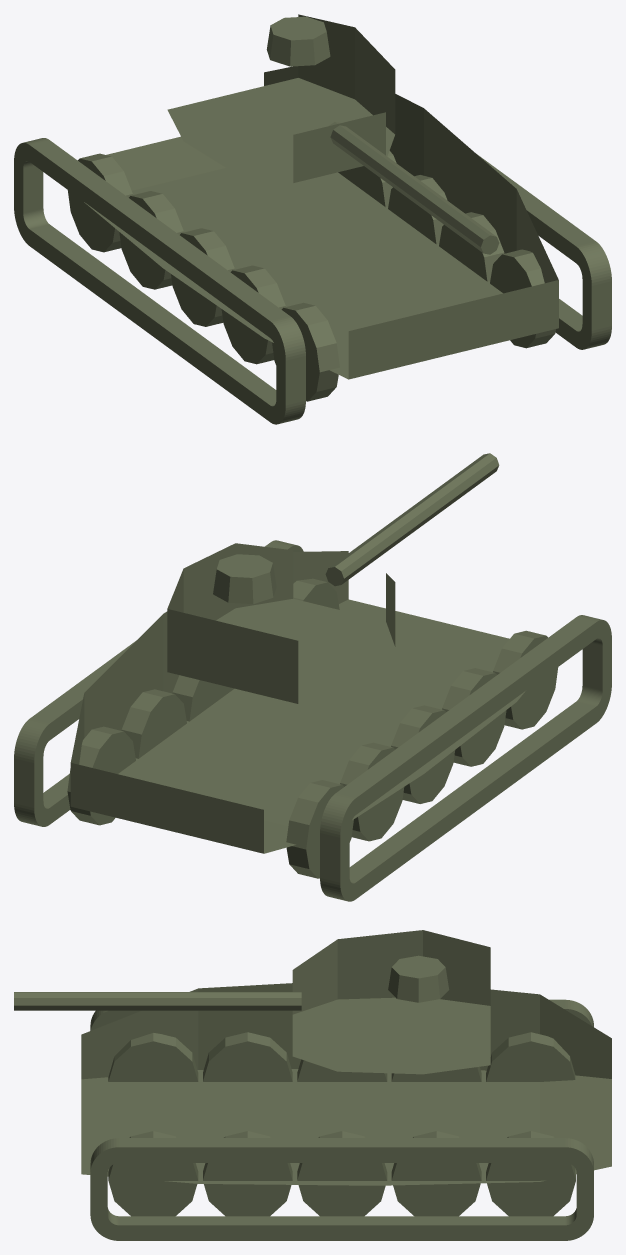
Rendered from tank.glb.
The picture shows the model from 3 angles, top to bottom: view 1: azimuth 30°, elevation 25°; view 2: azimuth 150°, elevation 25°; view 3: azimuth 270°, elevation 25°; orthographic projection. The views are drawn at different scales.
Parts seen in each view (by area): view 1: hull, track--1, turret, track-1, gun, road-wheel--1-4, road-wheel--1-0, cupola, road-wheel--1-3, road-wheel--1-1, road-wheel--1-2, road-wheel-1-4 (+3 smaller); view 2: hull, track--1, turret, track-1, gun, road-wheel--1-0, road-wheel-1-1, road-wheel--1-4, cupola, road-wheel-1-0, road-wheel--1-1, road-wheel--1-3 (+3 smaller); view 3: hull, track-1, turret, gun, road-wheel-1-4, road-wheel-1-0, road-wheel-1-1, road-wheel-1-3, road-wheel-1-2, road-wheel--1-3, road-wheel--1-0, road-wheel--1-4 (+4 smaller).
Part boxes in pixels (left/top/right/bottom): hull: left=84, top=66, right=558, bottom=379; track--1: left=14, top=138, right=305, bottom=424; turret: left=167, top=14, right=395, bottom=182; track-1: left=477, top=154, right=611, bottom=349; gun: left=328, top=122, right=499, bottom=254; road-wheel--1-4: left=272, top=302, right=339, bottom=401; road-wheel--1-0: left=67, top=153, right=132, bottom=252; cupola: left=266, top=16, right=330, bottom=66; road-wheel--1-3: left=221, top=265, right=285, bottom=364; road-wheel--1-1: left=119, top=191, right=183, bottom=289; road-wheel--1-2: left=171, top=228, right=234, bottom=326; road-wheel-1-4: left=490, top=249, right=555, bottom=348; hull: left=70, top=551, right=525, bottom=853; track--1: left=320, top=615, right=611, bottom=901; turret: left=167, top=543, right=395, bottom=703; track-1: left=14, top=540, right=303, bottom=826; gun: left=325, top=453, right=499, bottom=586; road-wheel--1-0: left=286, top=780, right=353, bottom=878; road-wheel-1-1: left=121, top=689, right=186, bottom=758; road-wheel--1-4: left=493, top=630, right=558, bottom=729; cupola: left=213, top=554, right=276, bottom=603; road-wheel-1-0: left=67, top=726, right=135, bottom=825; road-wheel--1-1: left=340, top=742, right=404, bottom=841; road-wheel--1-3: left=442, top=668, right=506, bottom=766; hull: left=81, top=983, right=611, bottom=1185; track-1: left=90, top=1138, right=593, bottom=1240; turret: left=292, top=930, right=490, bottom=1074; gun: left=14, top=992, right=301, bottom=1010; road-wheel-1-4: left=108, top=1131, right=198, bottom=1216; road-wheel-1-0: left=486, top=1131, right=575, bottom=1216; road-wheel-1-1: left=391, top=1131, right=481, bottom=1216; road-wheel-1-3: left=203, top=1131, right=292, bottom=1216; road-wheel-1-2: left=297, top=1131, right=387, bottom=1216; road-wheel--1-3: left=203, top=1032, right=292, bottom=1081; road-wheel--1-0: left=486, top=1032, right=575, bottom=1081; road-wheel--1-4: left=108, top=1033, right=198, bottom=1081.
Bounding box in the file's own units: 3.88 × 2.61 × 6.65.
